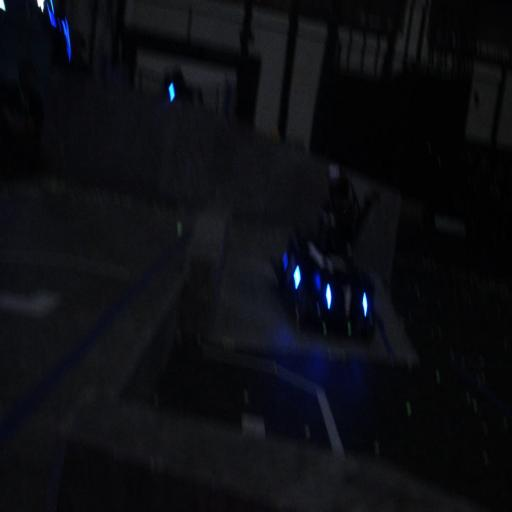target: (324, 277, 369, 324)
